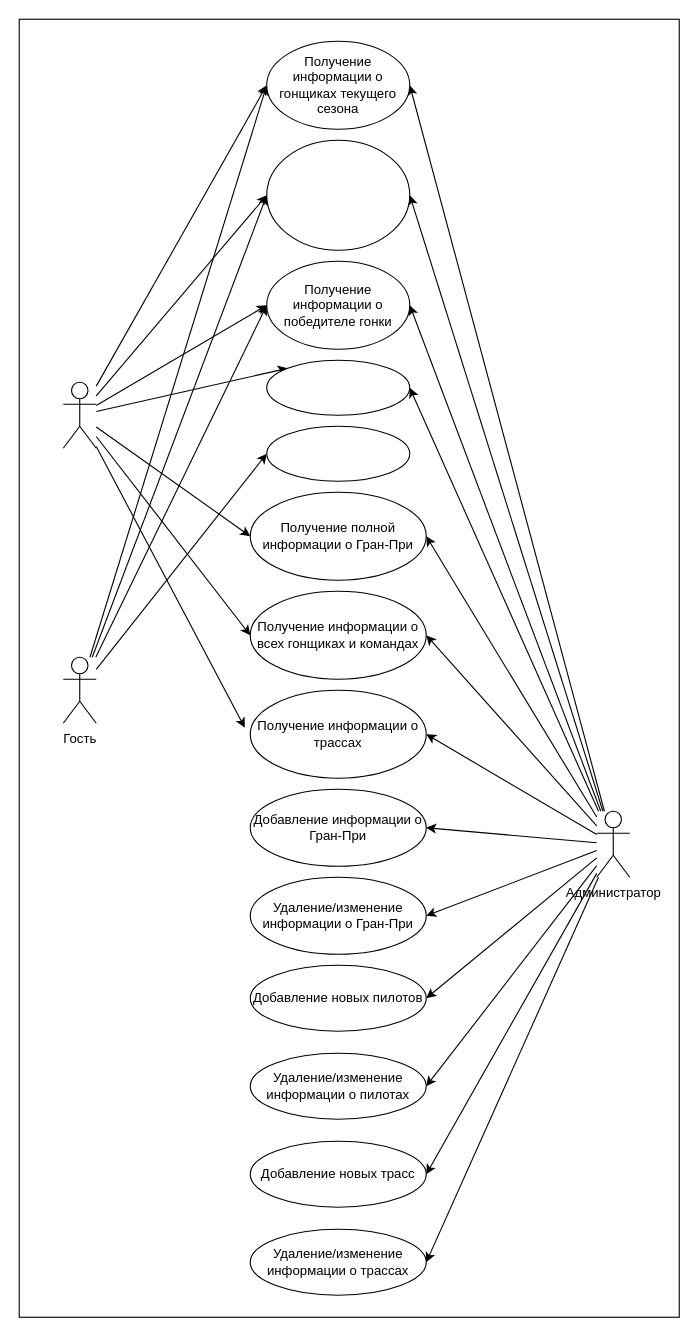
Some shapes in this 699 by 1337 pixel diagram are drawn without their labels. The shapes that lost their labels are listed below. From the top down, each one's centre as x and y in pixels, then its label:
At point 338,194: "Получение информации о Гран-При (без временных результатов гонки и квалификации)".
At point 338,387: "Авторизация".
At point 79,414: "Авторизованный пользователь".
At point 338,453: "Регистрация".
